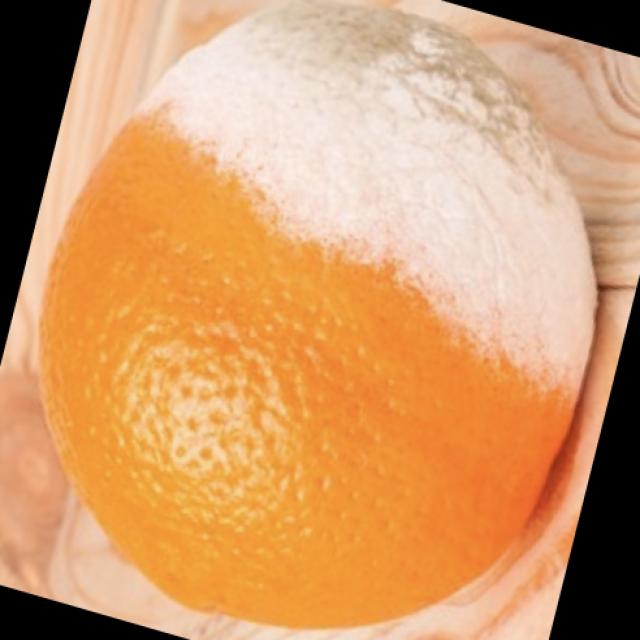sedikit_busuk: (42, 3, 606, 628)
